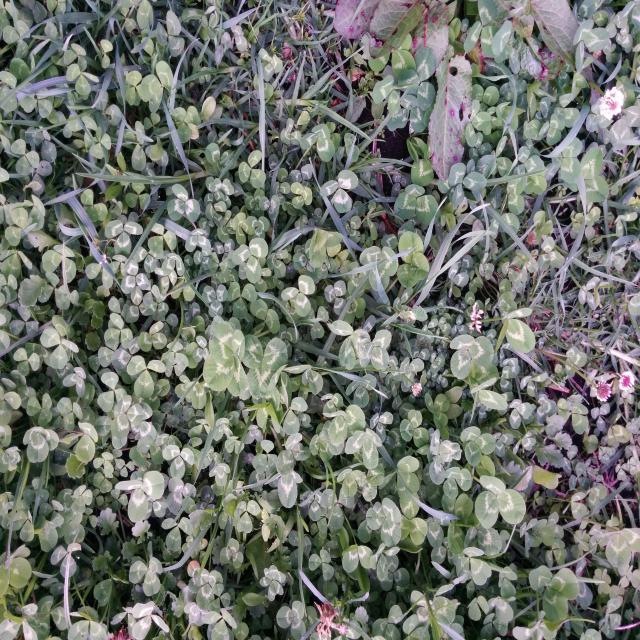Four Leaf Clover: (202, 320, 248, 397)
